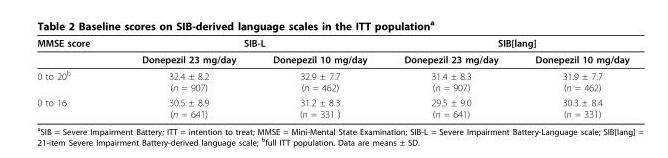table: (36, 36, 628, 119)
table column: (115, 36, 253, 119), (253, 36, 385, 119), (385, 36, 516, 119), (516, 36, 628, 119), (36, 36, 115, 119)
table column header: (36, 36, 628, 66)
table row: (36, 66, 628, 94), (36, 94, 628, 119), (36, 50, 628, 66), (36, 36, 628, 50)
table spanning cell: (115, 36, 385, 50), (385, 36, 628, 50), (36, 36, 115, 66)
